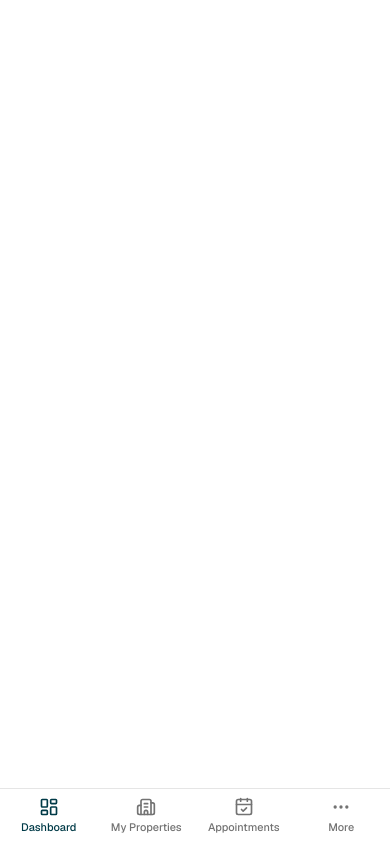
it: DashboardMobileNav › opens a sheet with the remaining destinations when More is tapped
Expected: the text "Analytics" is not shown
Click the button "More" at (341, 816), box x1=292 y1=789 x2=389 y2=843
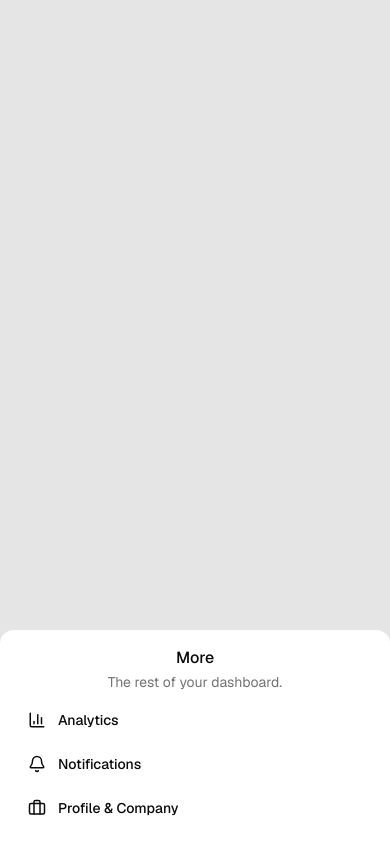
Result: the text "Analytics" is shown at x1=28 y1=710 x2=118 y2=730
Result: the text "Notifications" is shown at x1=28 y1=754 x2=141 y2=774
